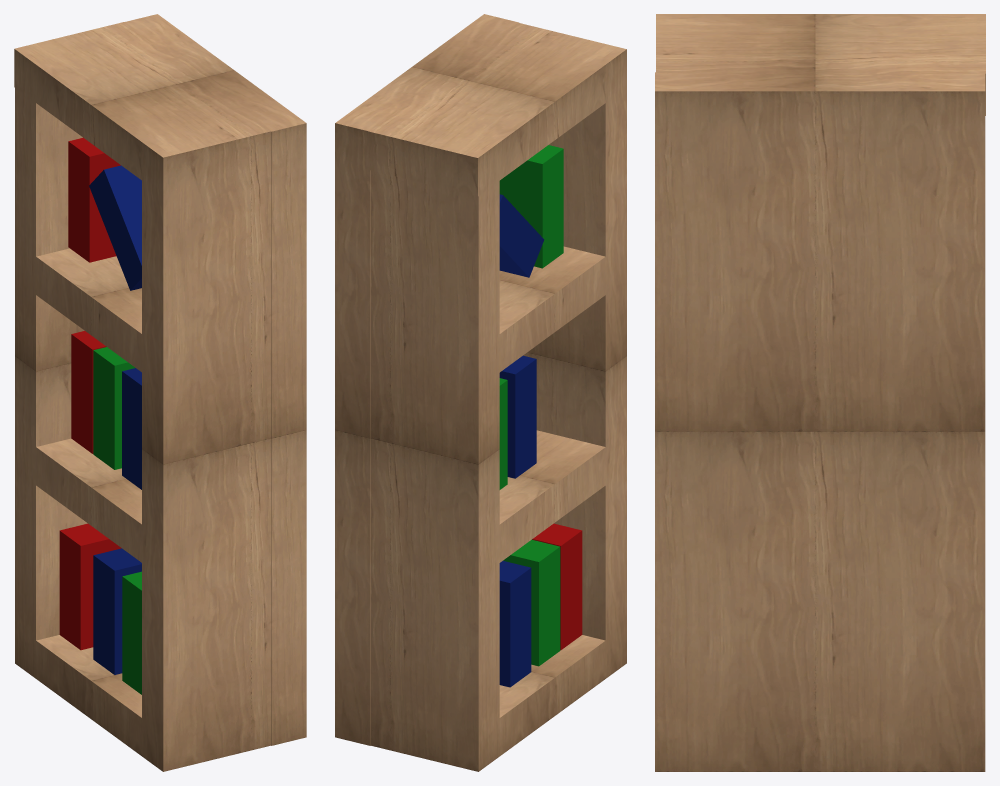
Rendered from Bookcase2.fbx.
The picture shows the model from 3 angles, left to right: view 1: azimuth 30°, elevation 25°; view 2: azimuth 150°, elevation 25°; view 3: azimuth 270°, elevation 25°; orthographic projection. The views are drawn at different scales.
Visible parts, largest first — view 1: mergedBlocks; view 2: mergedBlocks; view 3: mergedBlocks.
Part boxes in pixels (<box>): mergedBlocks: <box>14,14,306,771</box>; mergedBlocks: <box>335,14,626,771</box>; mergedBlocks: <box>655,14,985,771</box>.
Bounding box in the file's own units: 4.88 × 20 × 8.81.
Materials: 4 (1 with a texture image).
